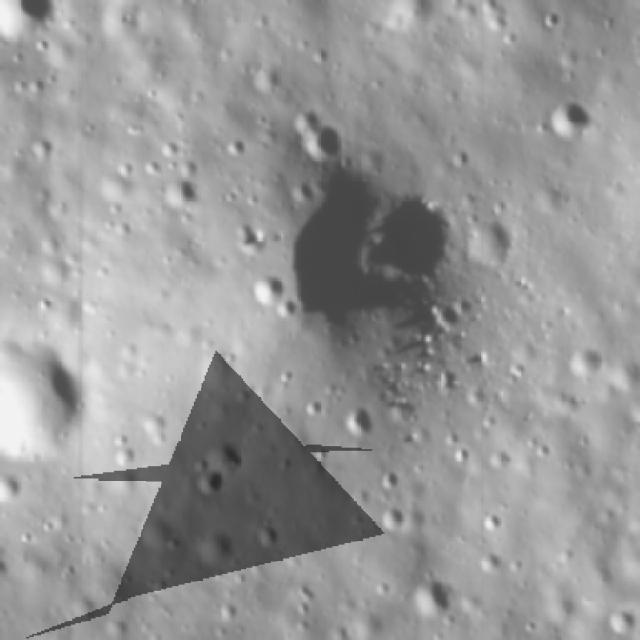crater: (351, 181, 463, 285), (284, 106, 348, 163), (1, 2, 58, 52), (543, 99, 595, 143), (409, 576, 454, 624), (191, 524, 237, 568), (154, 178, 200, 210), (248, 270, 286, 308), (564, 345, 604, 380), (248, 61, 282, 98), (531, 2, 567, 35), (473, 545, 507, 578), (342, 402, 375, 435), (372, 506, 410, 534), (252, 516, 279, 552), (606, 606, 637, 637), (138, 414, 168, 444), (191, 474, 227, 495), (108, 437, 134, 466), (289, 580, 323, 602), (28, 134, 52, 164), (222, 131, 248, 158), (308, 42, 334, 68), (442, 440, 470, 463), (372, 468, 401, 490), (369, 573, 394, 598), (112, 215, 134, 243), (486, 447, 512, 470), (474, 515, 504, 533), (313, 442, 333, 468), (483, 12, 509, 32), (161, 526, 181, 551), (302, 398, 326, 418), (217, 599, 237, 623), (111, 158, 132, 180), (190, 453, 210, 475), (60, 557, 75, 583), (40, 514, 58, 534), (16, 527, 35, 545), (33, 296, 53, 313), (592, 43, 608, 62), (291, 606, 314, 616)
